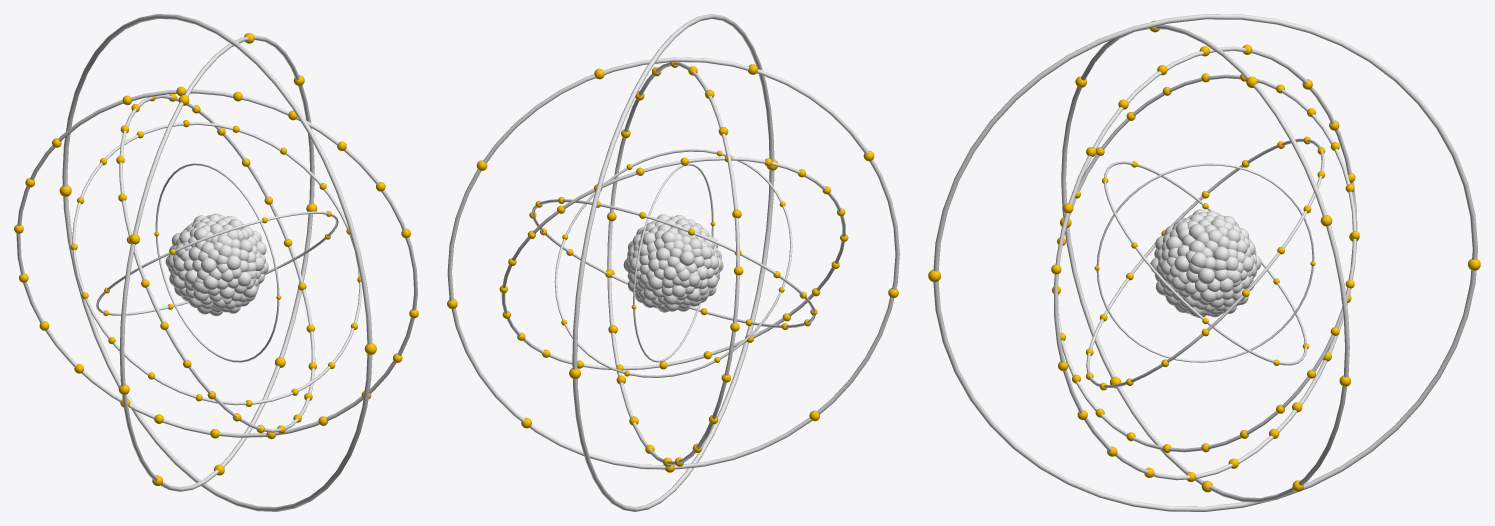
The model's file is Uranium.fbx.
3 renders of one model, left to right at view 1: azimuth 30°, elevation 25°; view 2: azimuth 150°, elevation 25°; view 3: azimuth 270°, elevation 25°, orthographic. The views are drawn at different scales.
Visible parts, largest first — view 1: Orbits, Proton/Neutron; view 2: Orbits, Proton/Neutron; view 3: Orbits, Proton/Neutron.
Part boxes in pixels (bbox=[...]): Orbits: bbox=[14, 14, 418, 511]; Proton/Neutron: bbox=[165, 213, 268, 316]; Orbits: bbox=[447, 14, 899, 511]; Proton/Neutron: bbox=[623, 214, 723, 312]; Orbits: bbox=[928, 14, 1480, 511]; Proton/Neutron: bbox=[1150, 209, 1261, 317].
Size of the model in its own units: 895 by 1215 by 1223.
